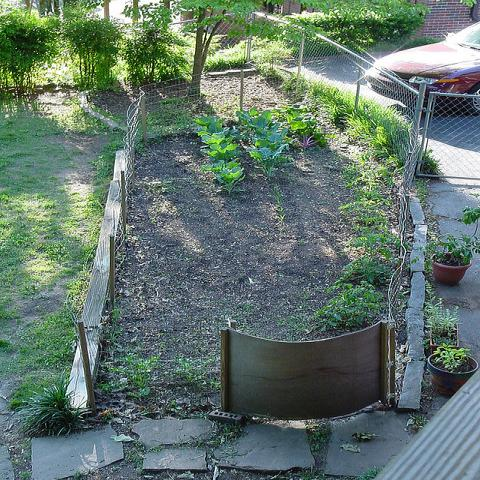car: (364, 20, 479, 117)
